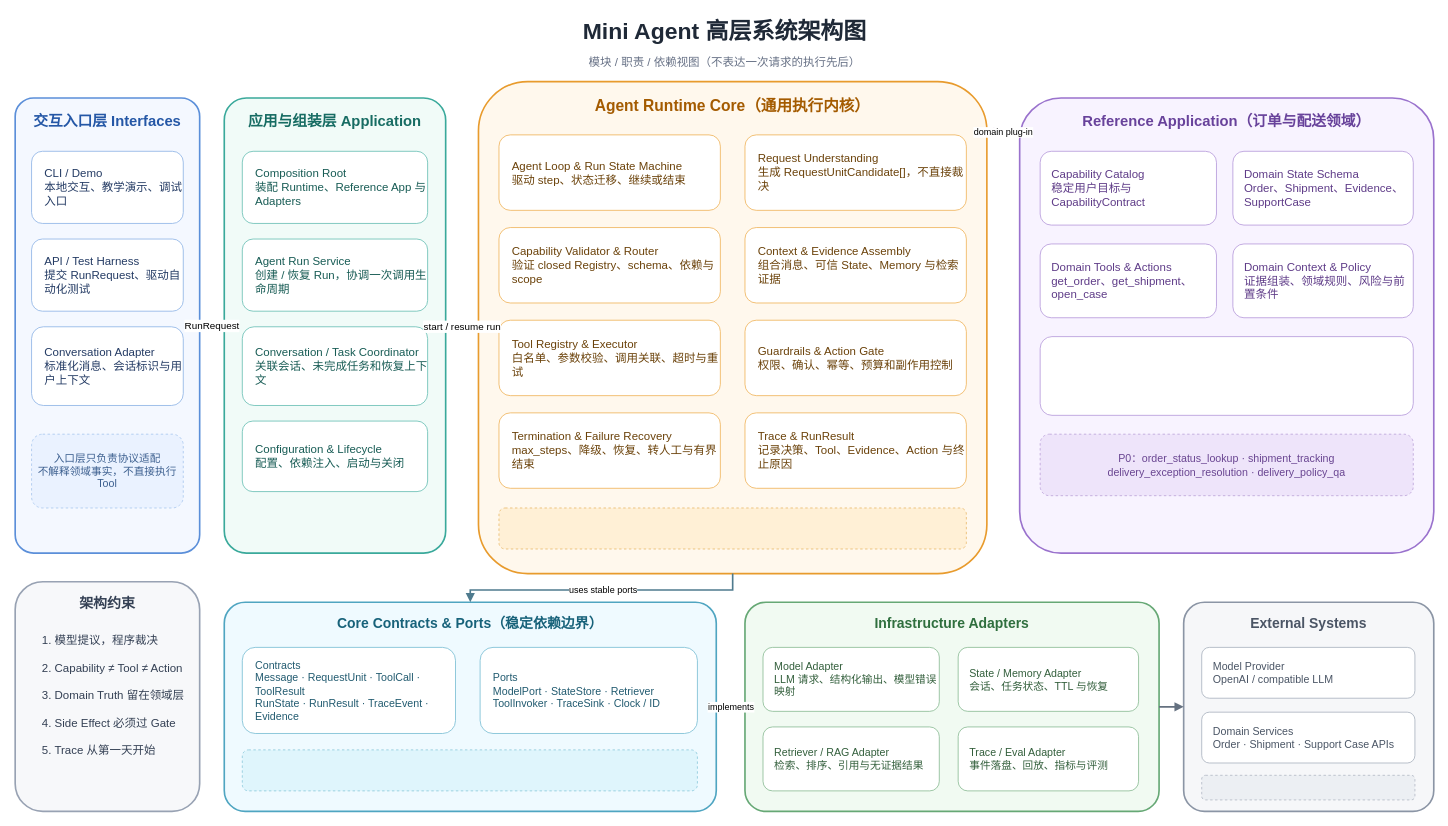
This 1448x826 diagram has some shape labels left out. The centre of each missing label's shape, as x and y in pixels:
Completion & Response Contract 完成条件、失败语义、用户可观察行为与转人工规则: the point at 1226,375
Policy Corpus / Persistent Storage / Telemetry: the point at 1308,787
依赖规则：Runtime 与领域扩展只依赖 Contract / Port，不依赖具体供应商实现: the point at 469,770
内核规则：只认识通用 Contract；不硬编码 Order、Shipment、DeliveryPolicy 等领域语义: the point at 732,528
